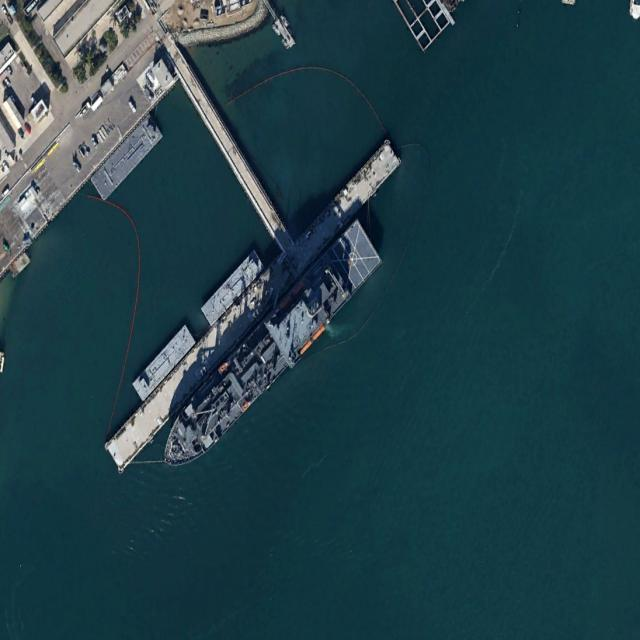Commander: (151, 217, 385, 489)
